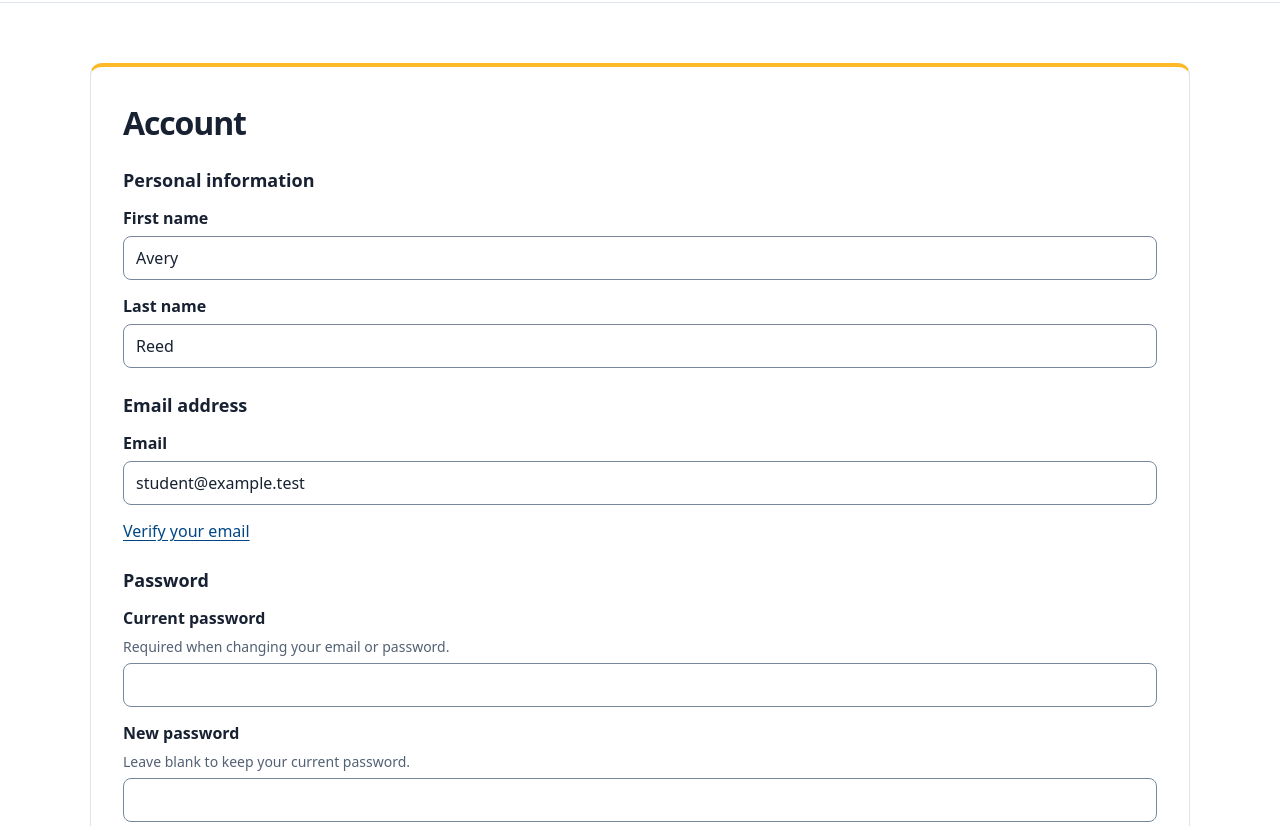
Phase 2 — Account and session flows › saves profile edits and updates the signed-in account header
This screenshot has width=1280, height=826.
Replace the text in the field labelled "First name" with "Jordan" at (640, 258), box [123,236,1157,280]
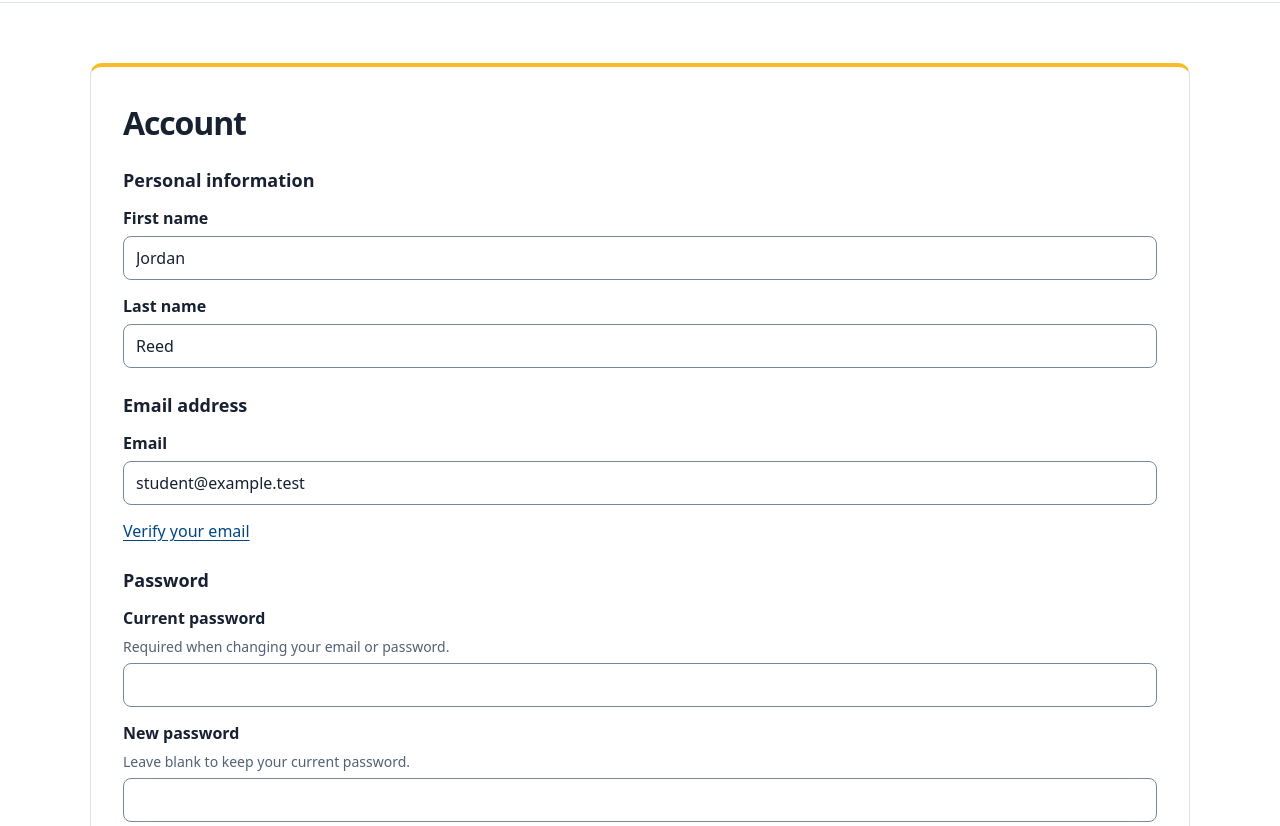
Replace the text in the field labelled "Email" with "jordan@example.test" at (640, 483), box [123,461,1157,505]
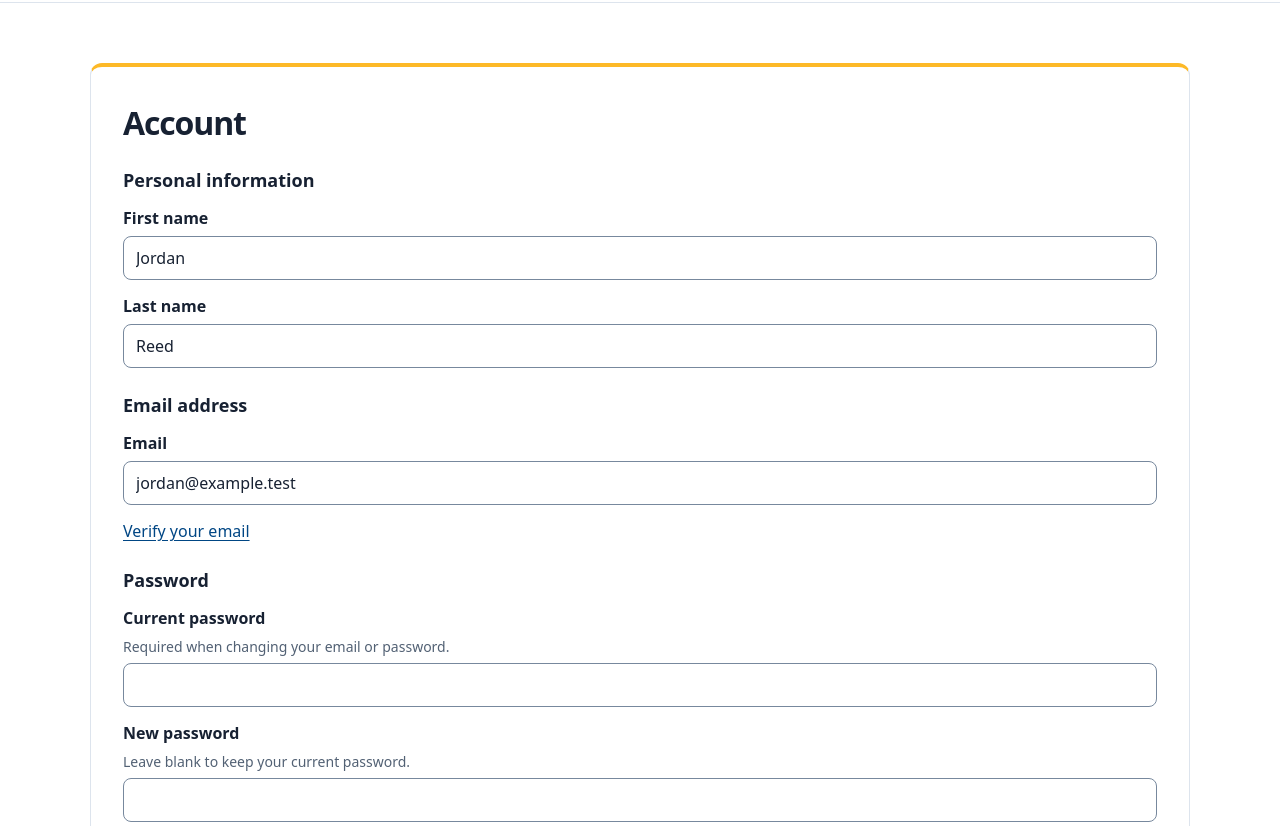
Type "sample-password" into the password field labelled "Current password".
click(640, 685); type("sample-password")  # box [123,663,1157,707]
(page scrolled)
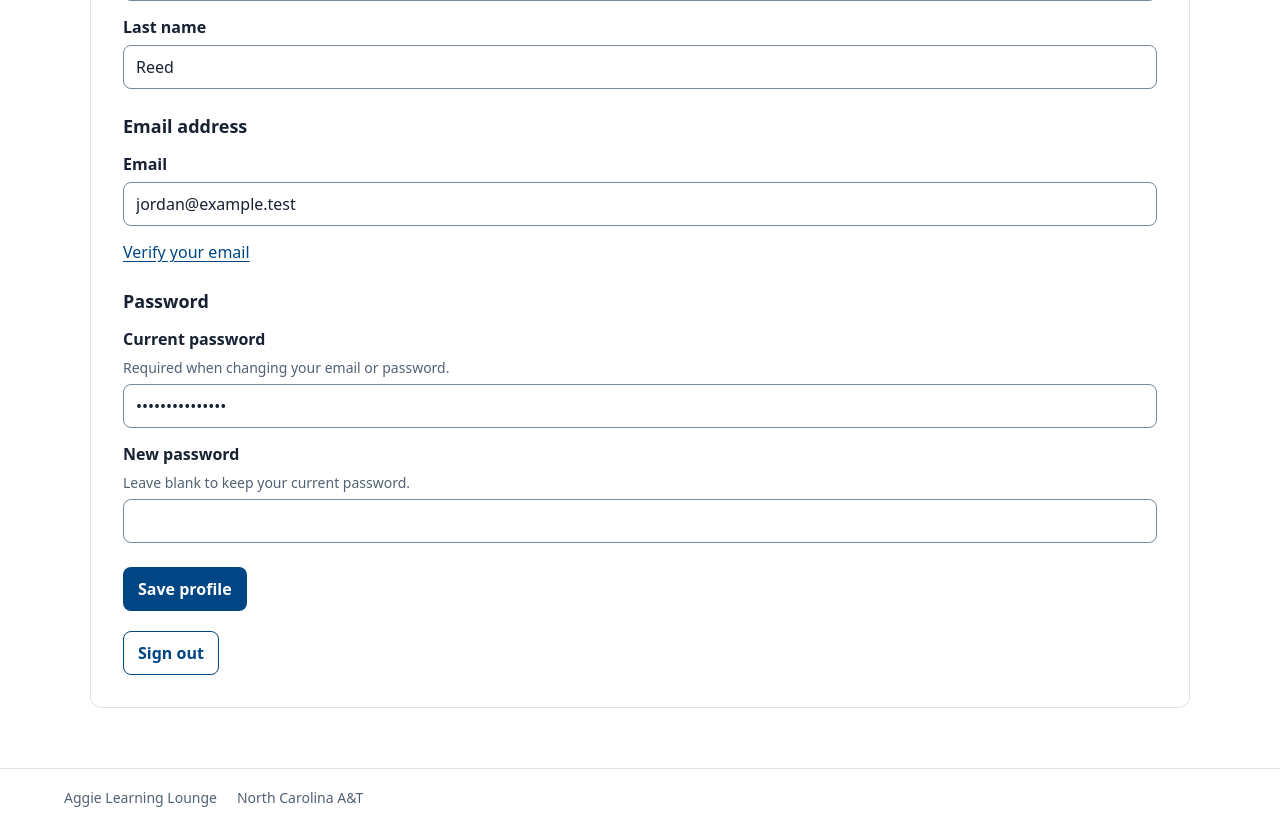
Click the button "Save profile".
click(185, 589)  # box [123,567,247,611]
(page scrolled)
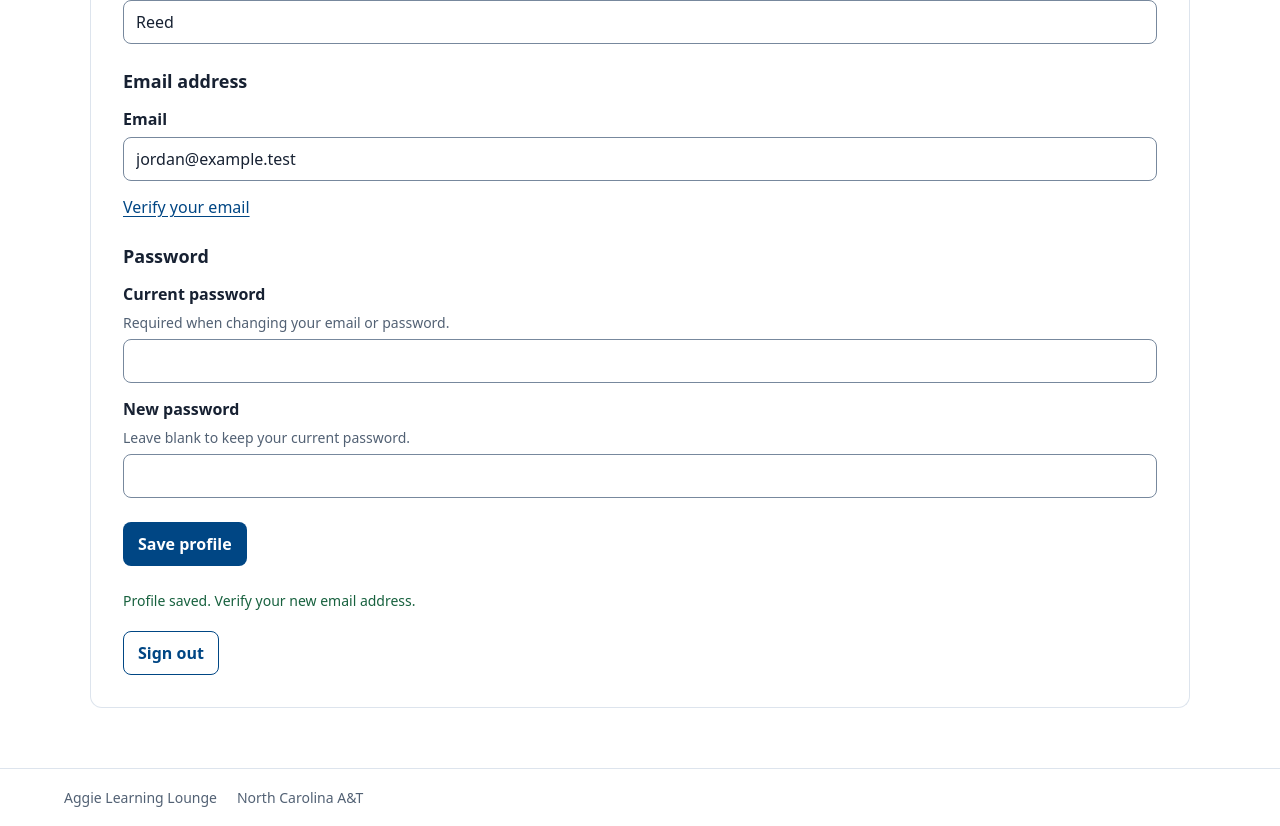
Check: the text "Profile saved. Verify your new email address." is shown, box [123,591,416,610]
Check: the password field labelled "Current password" is empty, box [123,339,1157,383]
